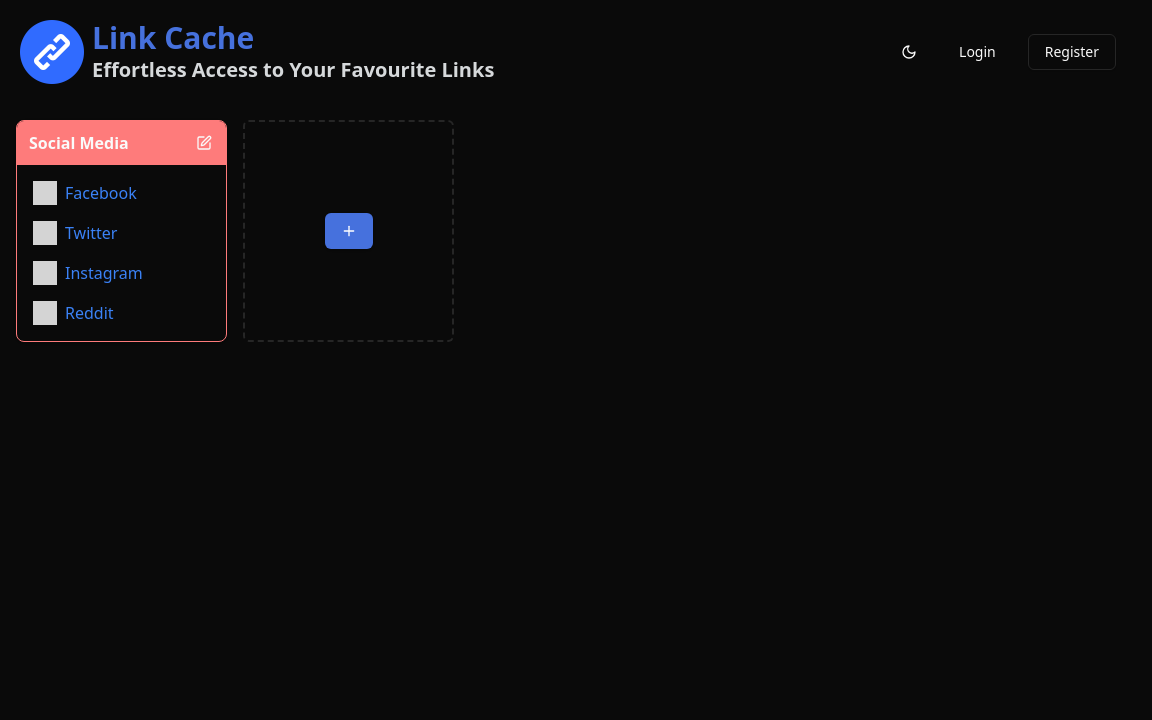
App Component › edit existing group
The width and height of the screenshot is (1152, 720).
Click the button with test id "edit-link-group-btn".
click(204, 143)  # box [186, 125, 222, 161]
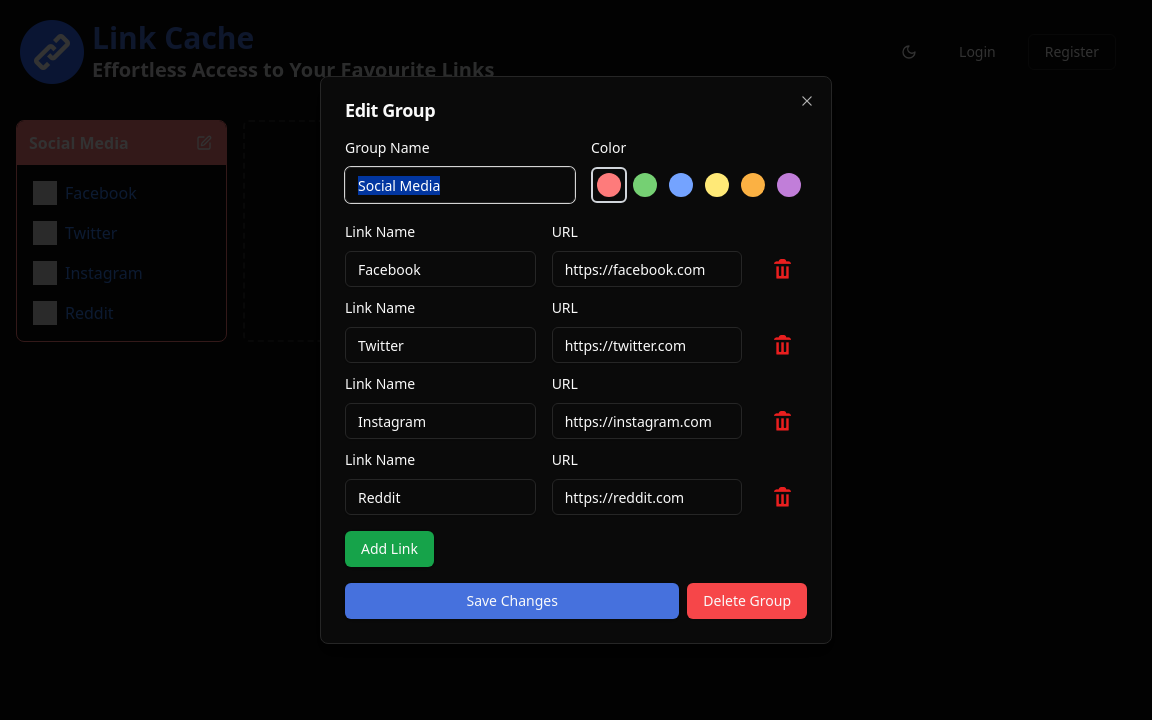
Replace the text in the field with test id "group-name-input" with "New Group Name" at (460, 185), box [345, 167, 575, 203]
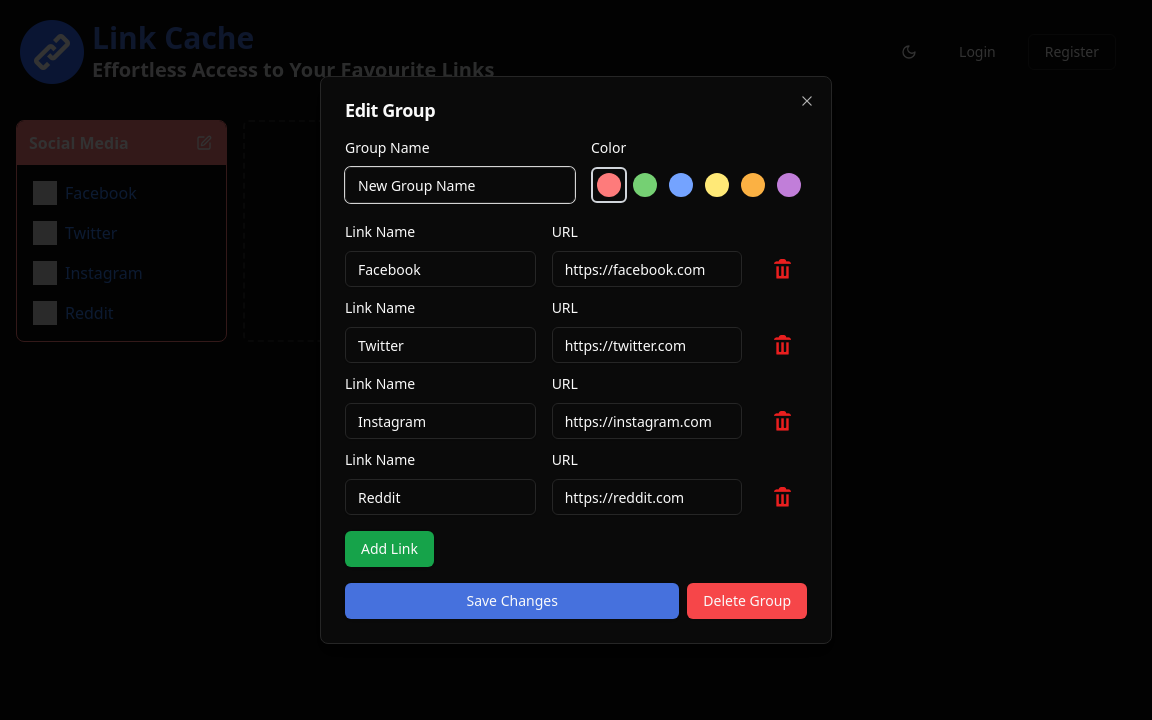
Click the button "Save Changes".
click(512, 601)  # box [345, 583, 679, 619]
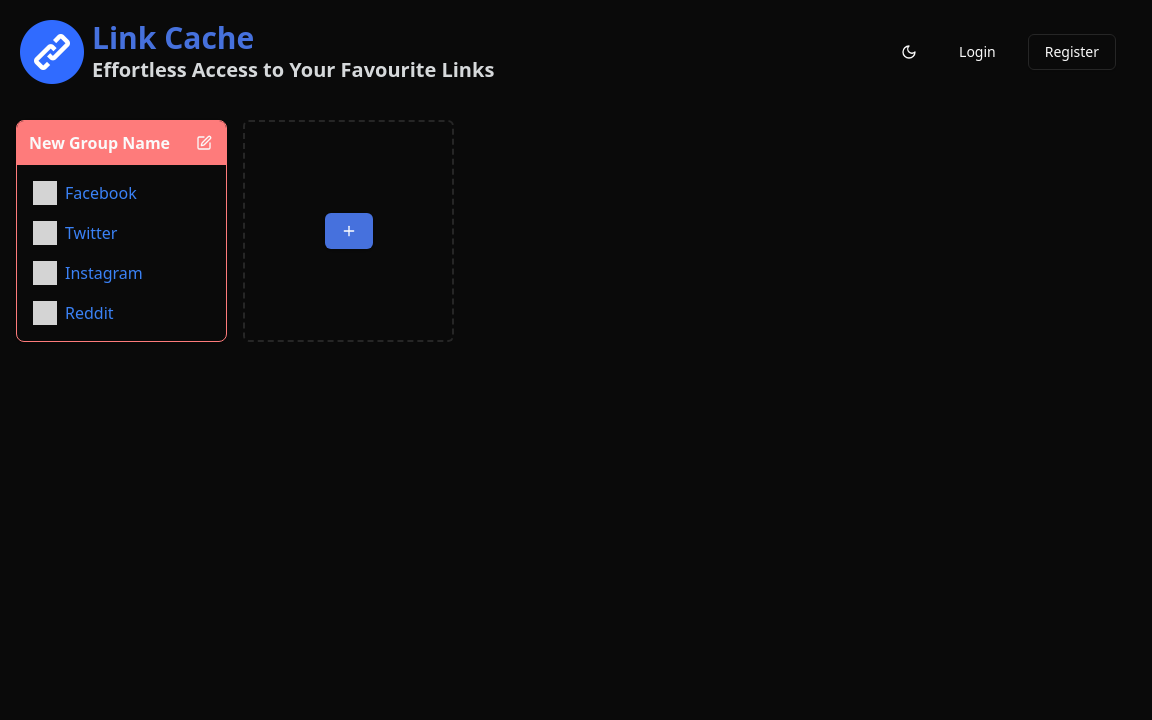
expect the link "Facebook" is shown: met, box [65, 181, 137, 205]
expect the text "New Group Name" is shown: met, box [29, 131, 170, 155]
expect the text "Social Media" is gone: met
